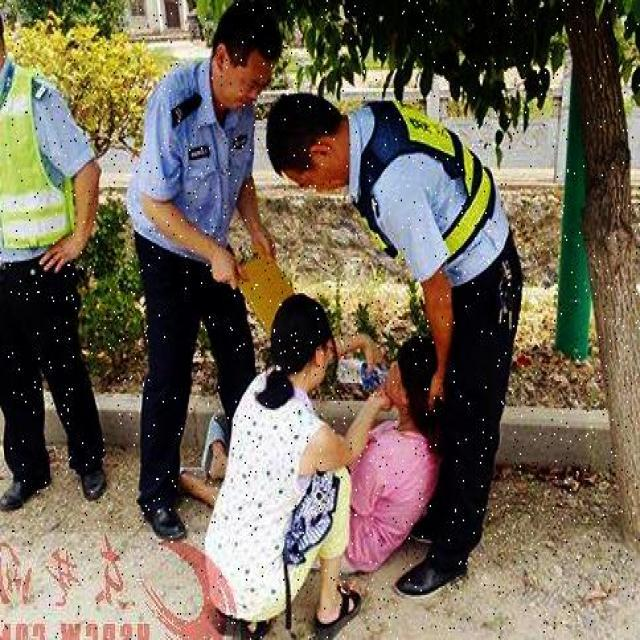fall: (344, 351, 443, 574)
